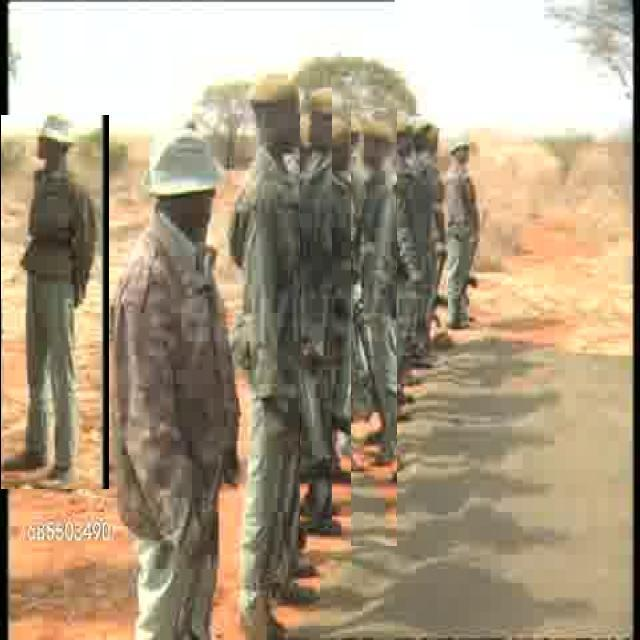poacher: (109, 128, 232, 558), (1, 115, 110, 489), (232, 64, 303, 555), (351, 108, 397, 546), (300, 85, 332, 528), (442, 126, 487, 320)
